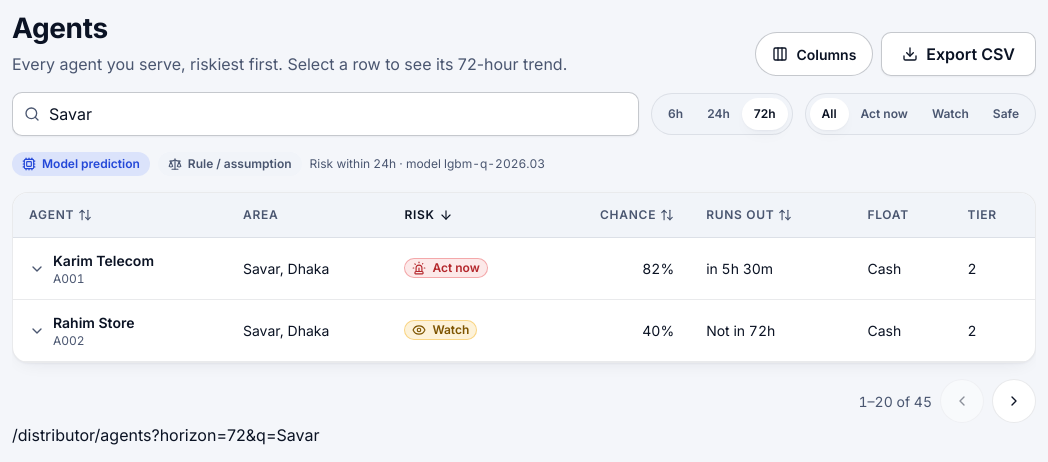
Test: distributor agents table › reads filters from the URL and writes sort, level and page back
Expected: the link "Karim Telecom" is shown, [53,250,154,271]
Click the button with aria-label "Sort by Runs out". click: [749, 215]
box: [706,199,792,231]
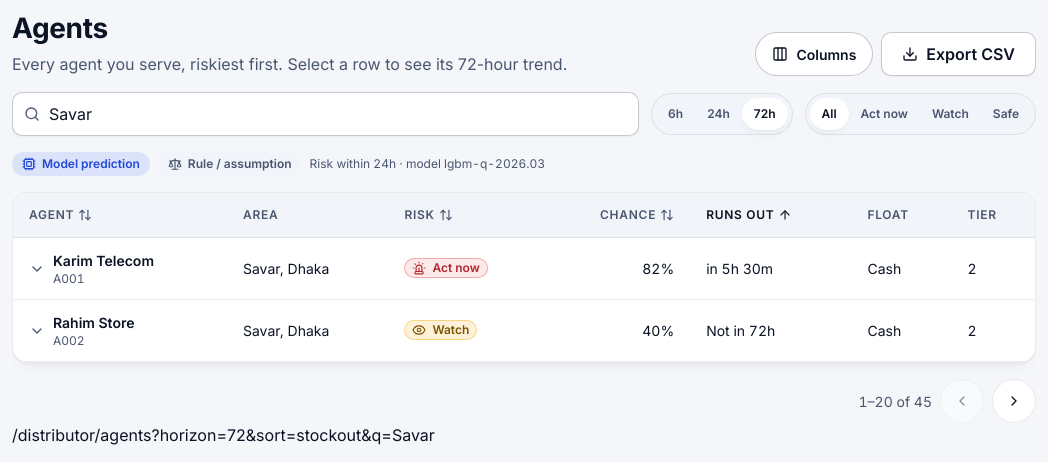
Now the text with test id "location" shows "sort=stockout", box [12,425,435,445]
Click the radio button labelled "Act now". click: [884, 114]
box: [848,98,920,130]
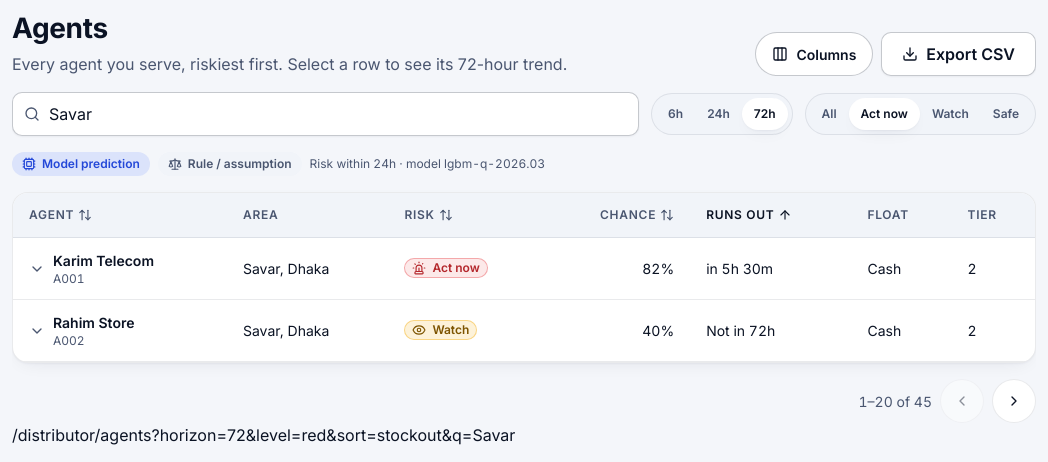
Click the button named "Next page". click: [1014, 401]
box: [992,379,1036,423]
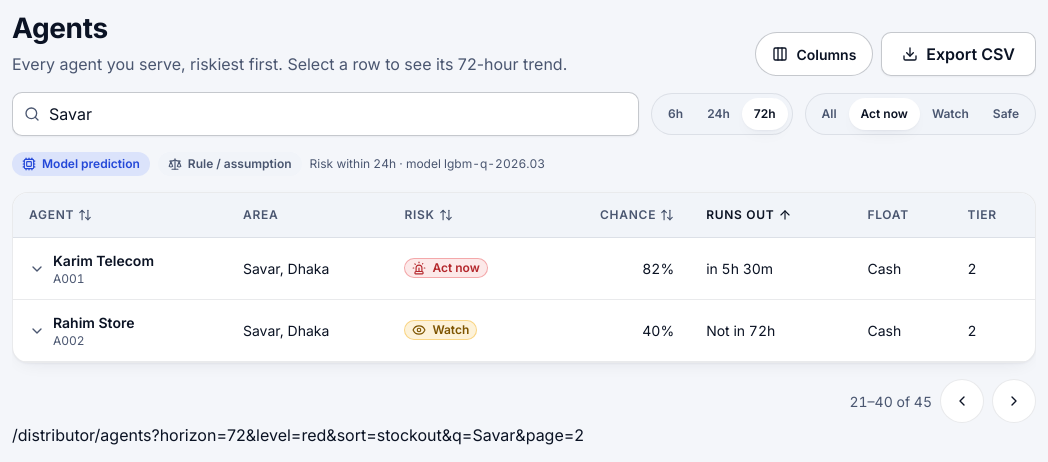
Now the text with test id "location" shows "page=2", box [12,425,584,445]
Now the text "21–40 of 45" is shown, box [849,391,932,412]
